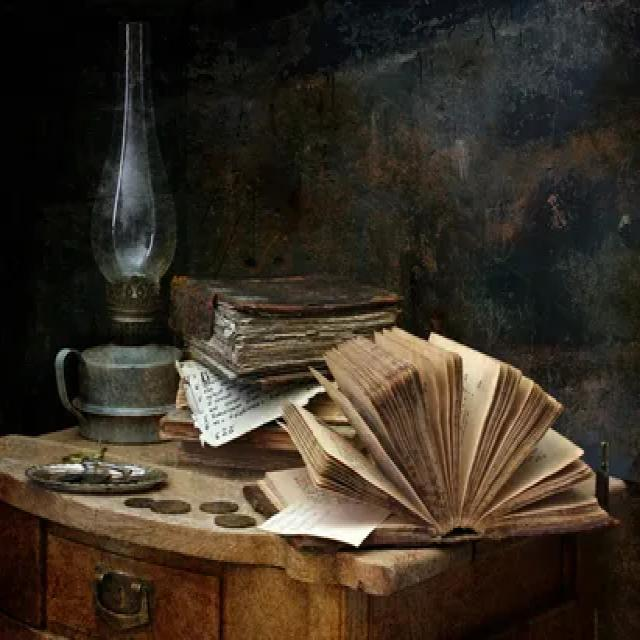book: (243, 314, 634, 544)
